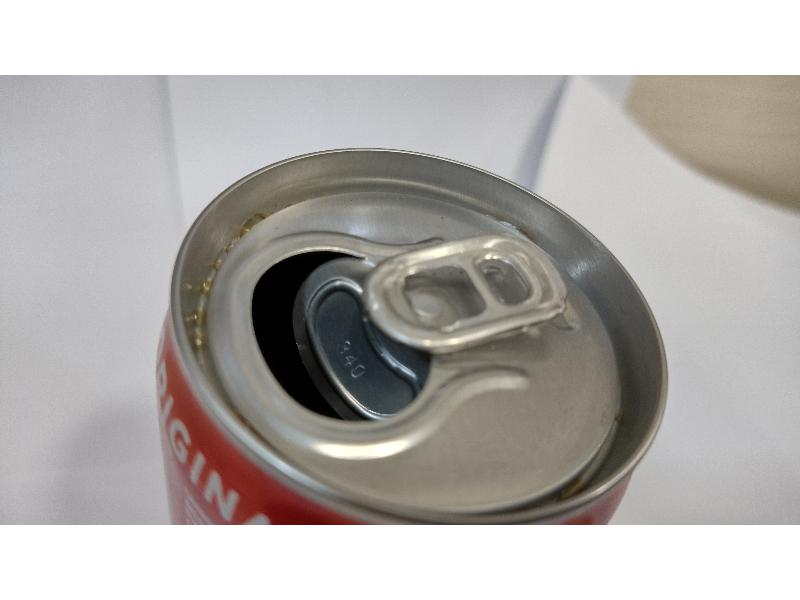can: (163, 136, 670, 524)
